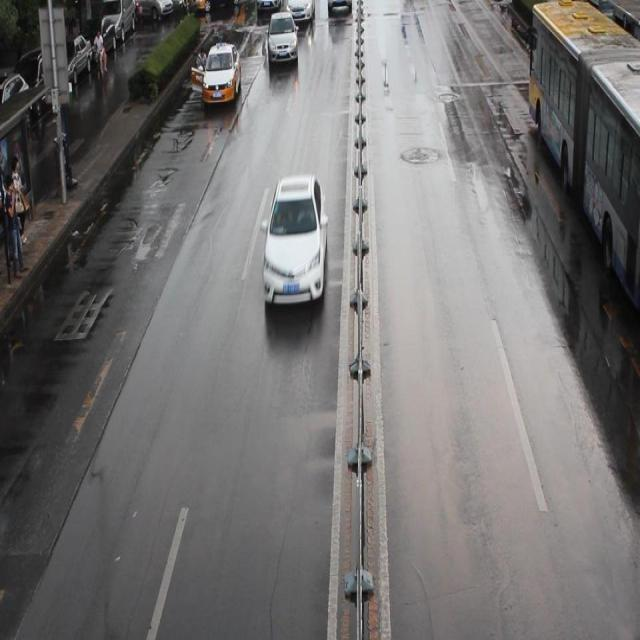car: (262, 174, 327, 305), (202, 42, 241, 103), (266, 12, 299, 65), (282, 1, 313, 24), (326, 2, 352, 15), (256, 1, 280, 13)
van: (526, 1, 640, 310)
